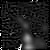node: (16, 16, 31, 30), (21, 32, 34, 44), (21, 44, 37, 50)
